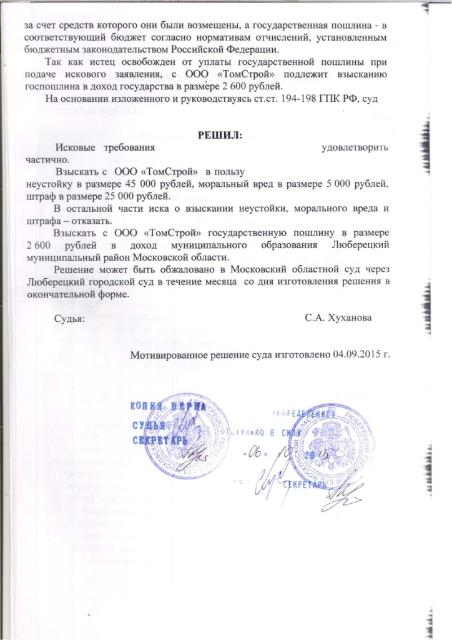stamp: (146, 392, 236, 480), (292, 402, 378, 494)
